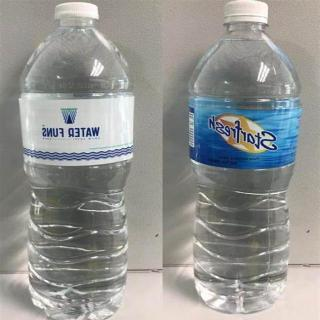Anorganik: (20, 3, 136, 320), (178, 0, 296, 308)
